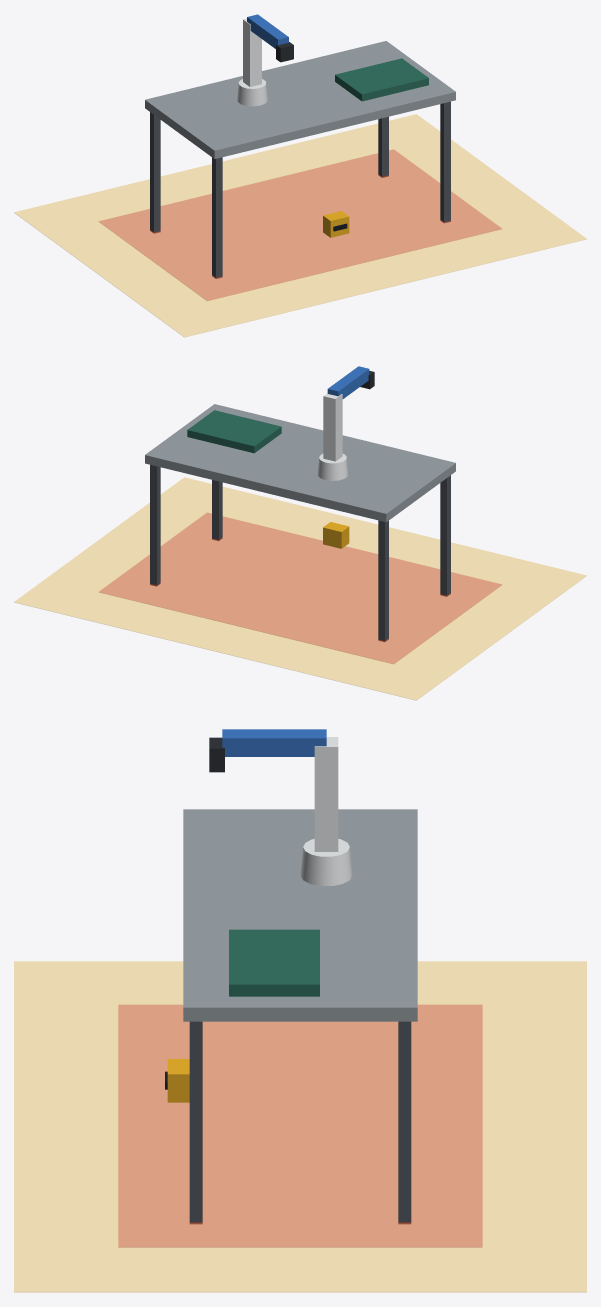
File: equipment--cobotBench.glb
3 views of the same model, one above another, from view 1: azimuth 30°, elevation 25°; view 2: azimuth 150°, elevation 25°; view 3: azimuth 270°, elevation 25° (orthographic). The views are drawn at different scales.
Visible parts, largest first — view 1: zoneWarn, zoneStop, cobotBench:shell, arm, elbow, scanner; view 2: zoneWarn, zoneStop, cobotBench:shell, arm, elbow, scanner; view 3: zoneWarn, zoneStop, cobotBench:shell, arm, elbow, scanner.
Part boxes in pixels (x1=…): zoneWarn: x1=14, y1=114, x2=586, y2=337; zoneStop: x1=99, y1=149, x2=501, y2=300; cobotBench:shell: x1=145, y1=41, x2=455, y2=278; arm: x1=237, y1=18, x2=267, y2=106; elbow: x1=247, y1=14, x2=288, y2=48; scanner: x1=323, y1=211, x2=349, y2=237; zoneWarn: x1=14, y1=477, x2=586, y2=700; zoneStop: x1=99, y1=512, x2=501, y2=663; cobotBench:shell: x1=145, y1=404, x2=455, y2=641; arm: x1=317, y1=393, x2=348, y2=480; elbow: x1=327, y1=366, x2=369, y2=398; scanner: x1=323, y1=522, x2=349, y2=548; zoneWarn: x1=14, y1=961, x2=586, y2=1292; zoneStop: x1=118, y1=1005, x2=482, y2=1247; cobotBench:shell: x1=183, y1=809, x2=417, y2=1223; arm: x1=300, y1=737, x2=352, y2=885; elbow: x1=222, y1=729, x2=326, y2=756; scanner: x1=165, y1=1059, x2=189, y2=1102.
Bounding box in the file's own units: 3 × 1.53 × 2.2.
